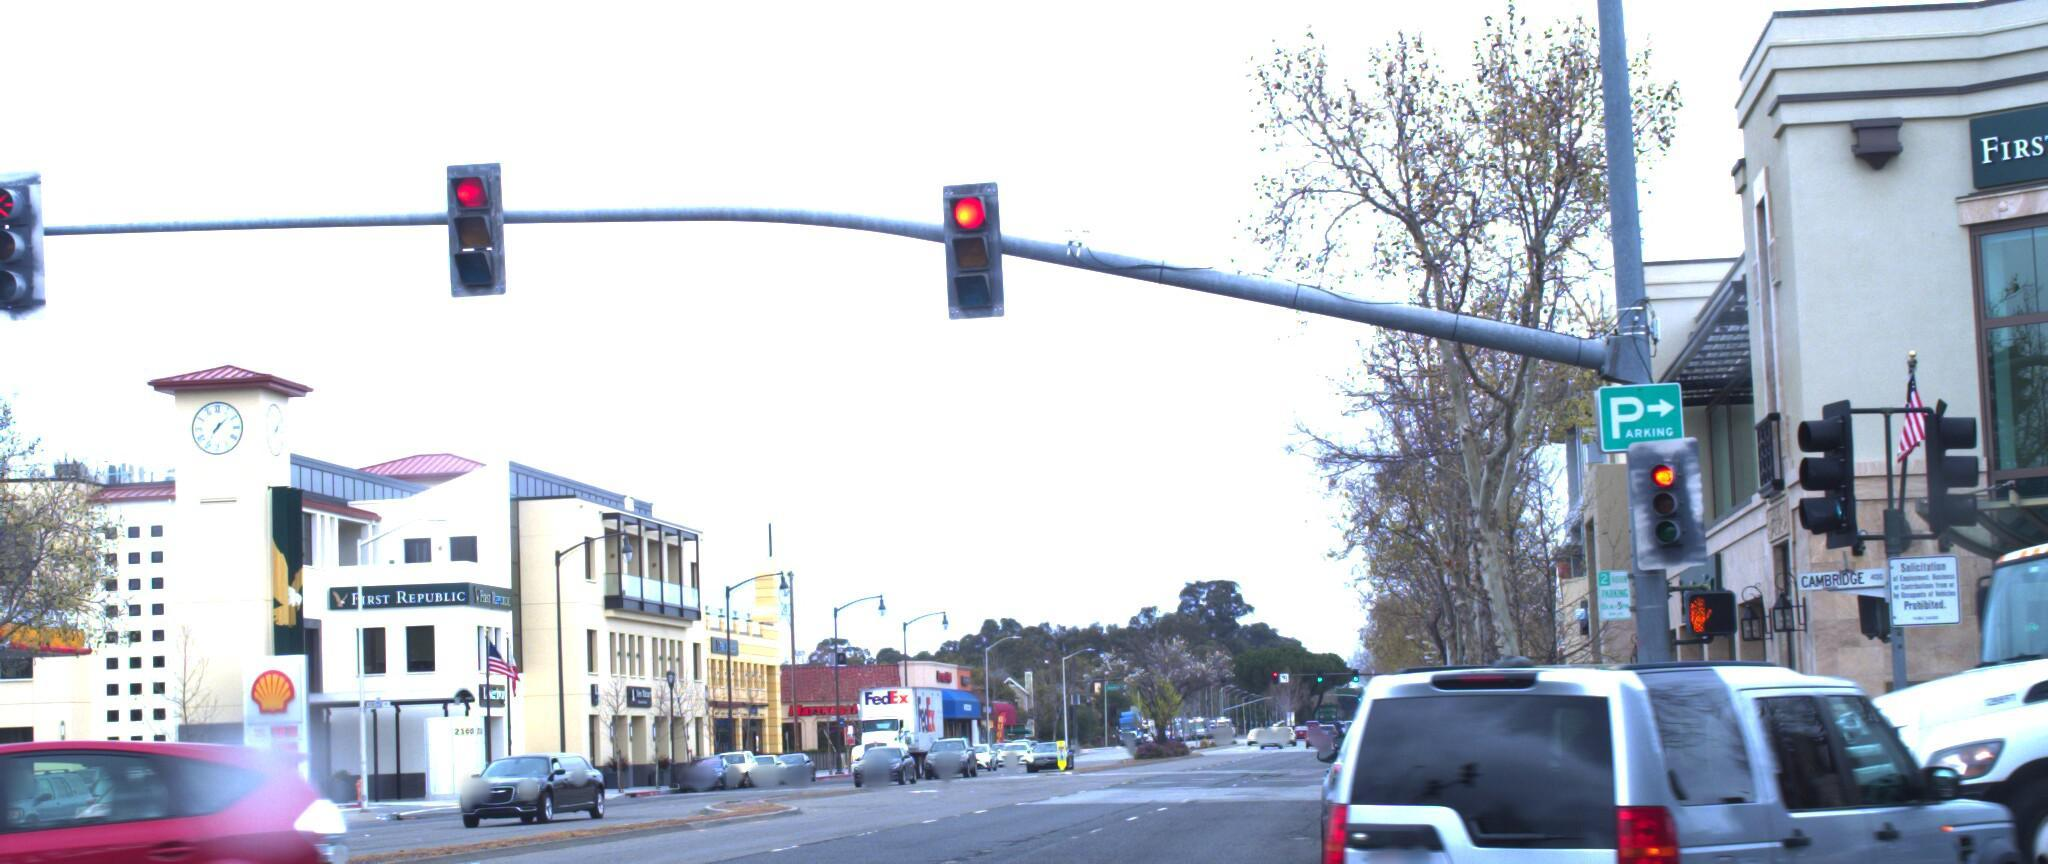car: (1271, 593, 2048, 864), (0, 730, 381, 864)
truck: (1669, 296, 2048, 864)
